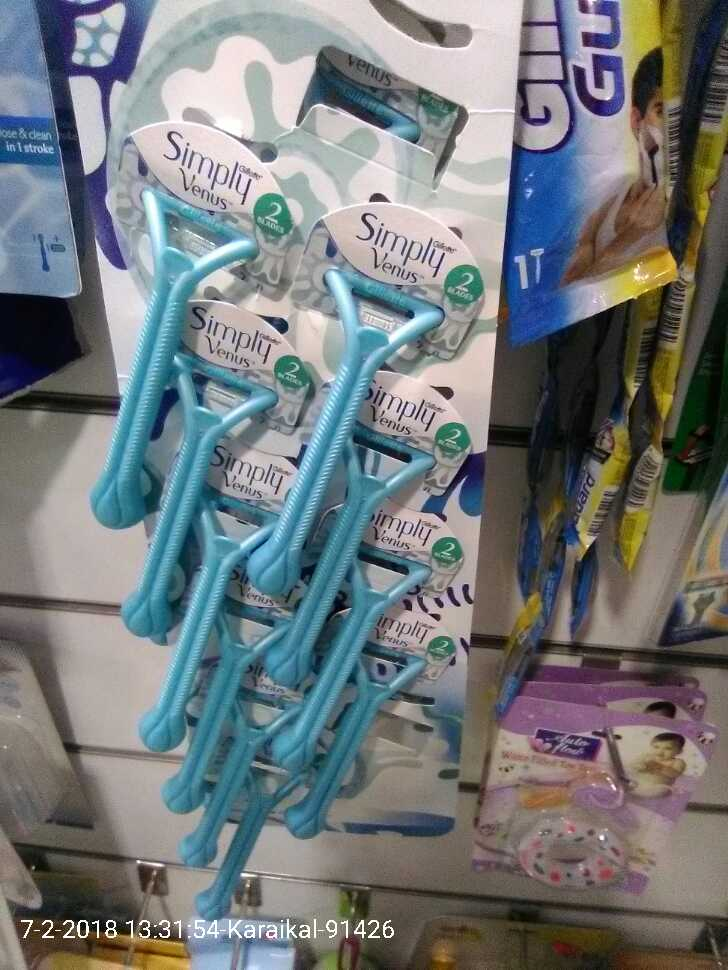reject: (512, 316, 631, 487)
